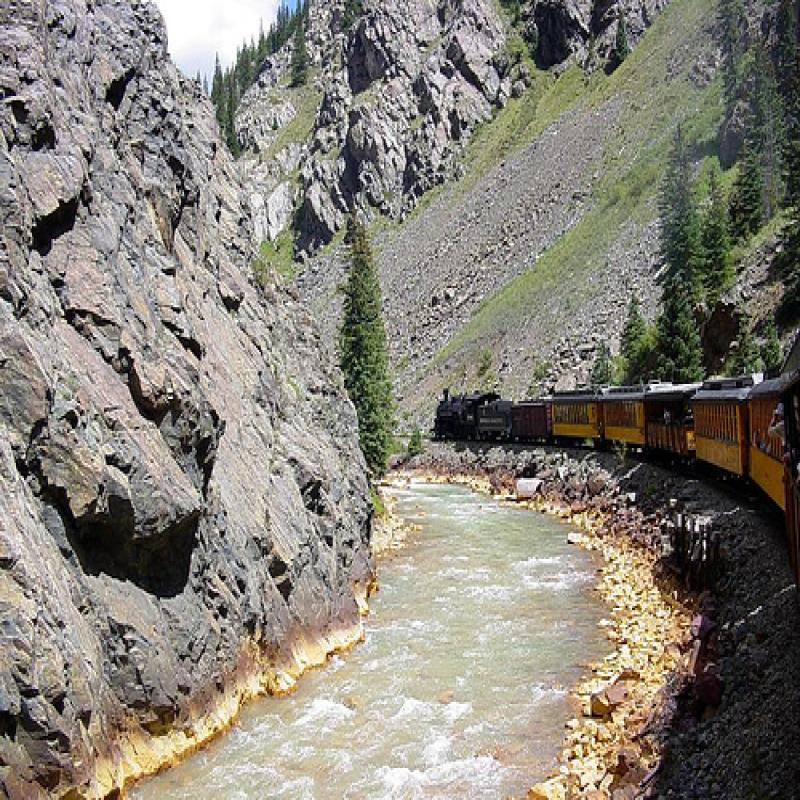train: (433, 370, 799, 524)
